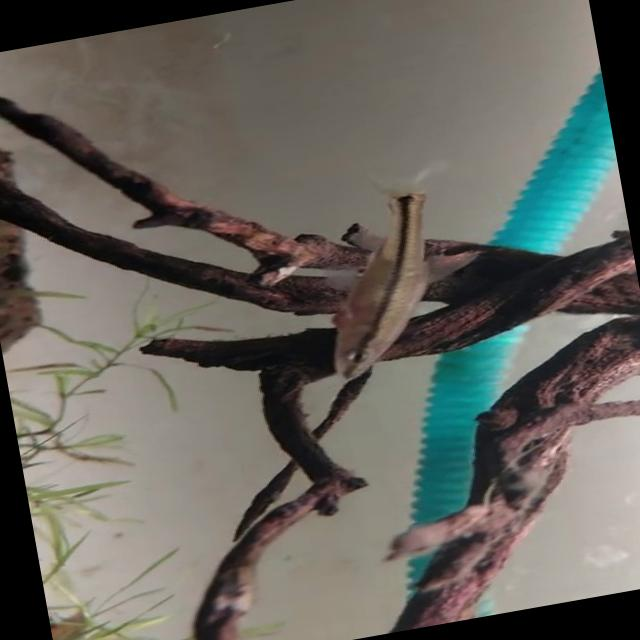Cakil Baligi: (302, 186, 459, 383)
